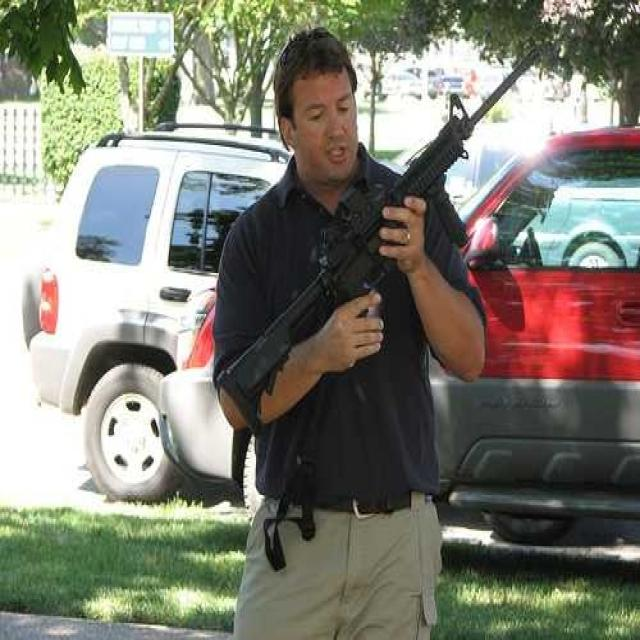Rifle: (206, 24, 555, 447)
